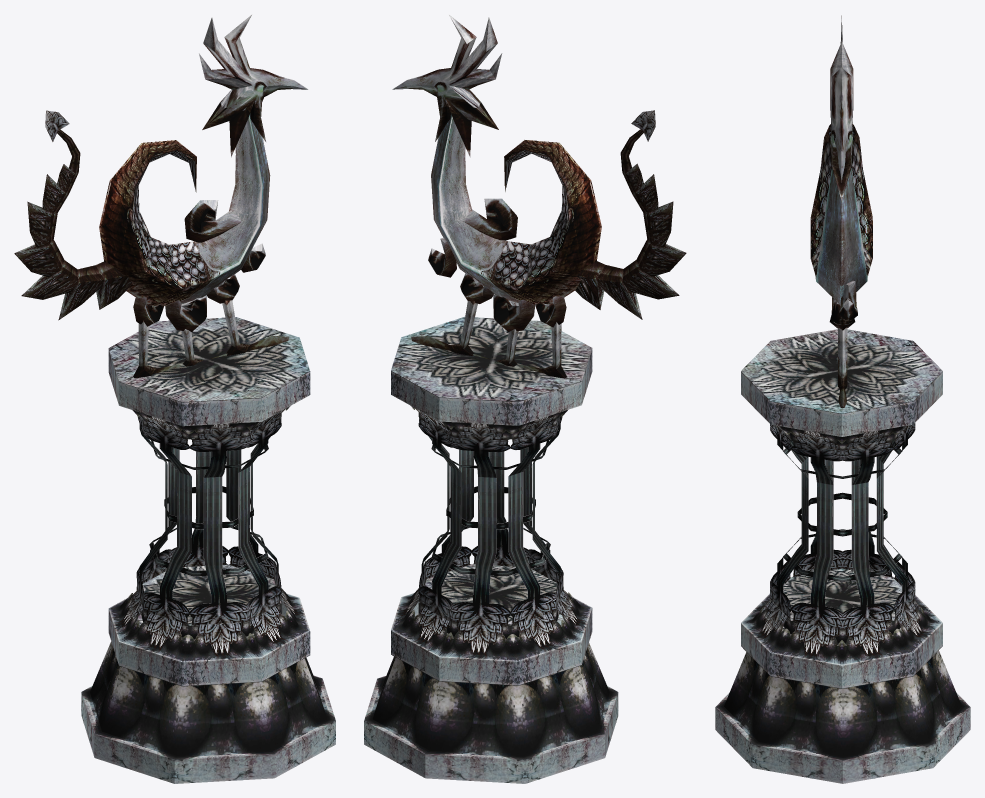
File: fenghuang.FBX
3 renders of one model, left to right at view 1: azimuth 30°, elevation 25°; view 2: azimuth 150°, elevation 25°; view 3: azimuth 270°, elevation 25°, orthographic. The views are drawn at different scales.
Parts seen in each view (by area): view 1: c90f8e8.obj; view 2: c90f8e8.obj; view 3: c90f8e8.obj.
Part boxes in pixels (box(x1,y1,x2,y2)): c90f8e8.obj: box(14, 15, 335, 783); c90f8e8.obj: box(364, 15, 686, 783); c90f8e8.obj: box(715, 15, 970, 783).
Size of the model in its own units: 17.43 by 38.4 by 12.86.
